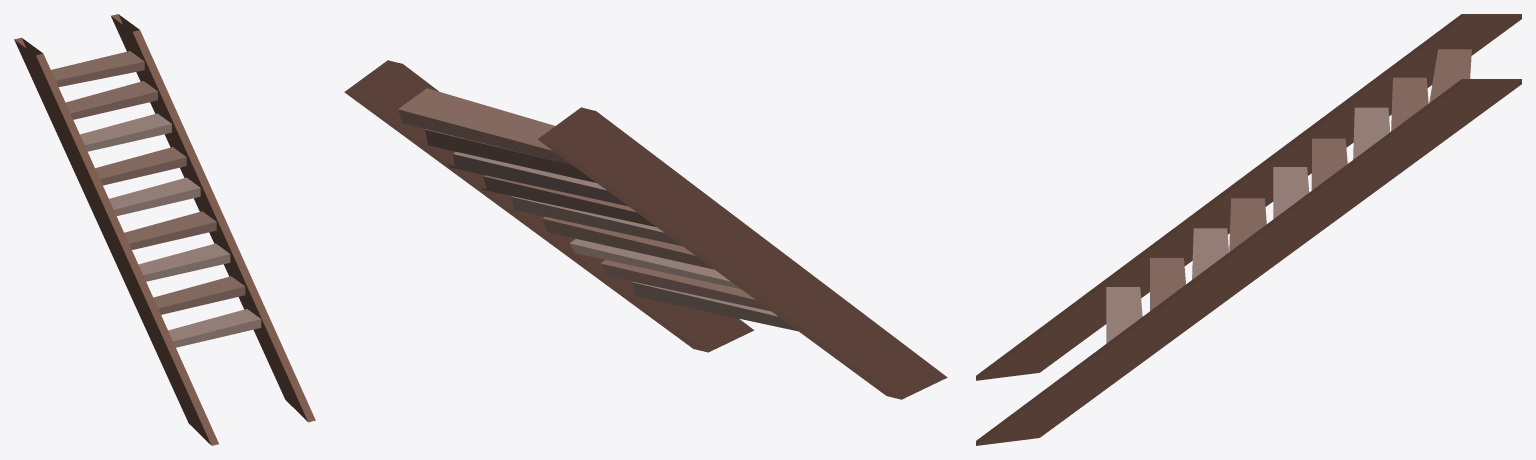
The model's file is props_024.glb.
3 renders of one model, left to right at view 1: azimuth 30°, elevation 25°; view 2: azimuth 150°, elevation 25°; view 3: azimuth 270°, elevation 25°, orthographic. The views are drawn at different scales.
Visible parts, largest first — view 1: props_024; view 2: props_024; view 3: props_024.
Boxes of the visible parts, x1,y1,x2,y2 form: props_024: [14, 14, 315, 445]; props_024: [344, 60, 947, 399]; props_024: [976, 14, 1521, 445].
Bounding box in the file's own units: 1.92 × 4.61 × 6.31.
Materials: 1 (1 with a texture image).
